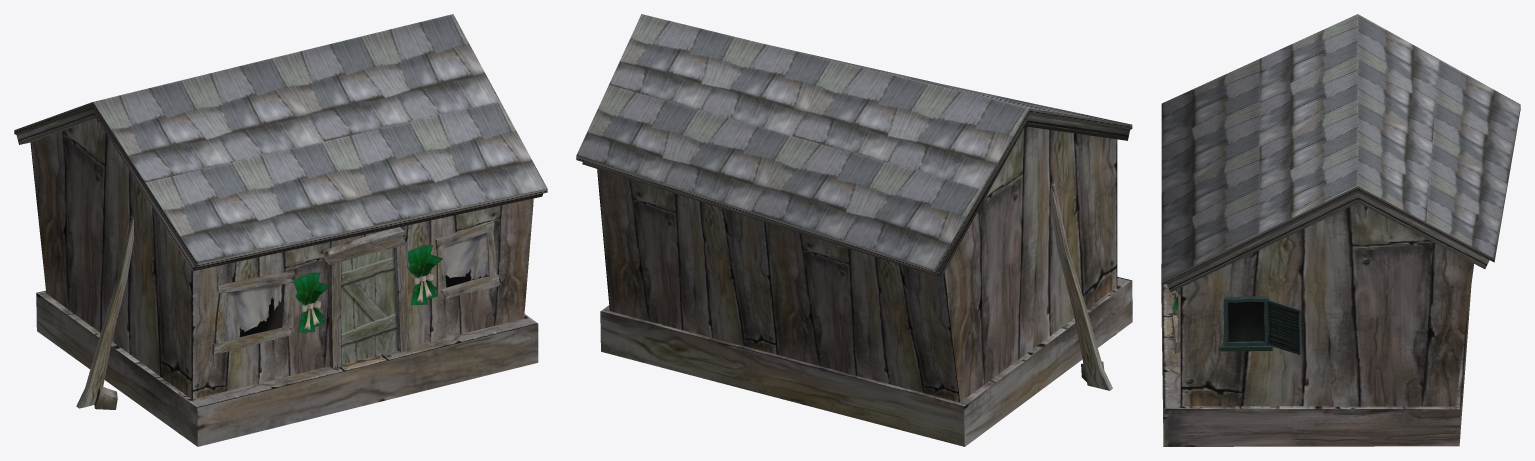
The model's file is shanty_npc_house_combo_G.fbx.
3 renders of one model, left to right at view 1: azimuth 30°, elevation 25°; view 2: azimuth 150°, elevation 25°; view 3: azimuth 270°, elevation 25°, orthographic. The views are drawn at different scales.
Parts seen in each view (by area): view 1: house_geo, platform, door_left, curtain1, wood_support, group1, door_frame_3, door_frame_2, door_frame_1, wood17.001, wood14.001, wood17 (+2 smaller); view 2: house_geo, platform, wood_support; view 3: house_geo, platform, shutter, Glass, woodFrame.
Boxes of the visible parts, x1=… form: house_geo: x1=14, y1=14, x2=547, y2=399; platform: x1=36, y1=290, x2=538, y2=446; door_left: x1=341, y1=248, x2=398, y2=364; curtain1: x1=225, y1=284, x2=283, y2=340; wood_support: x1=76, y1=216, x2=133, y2=408; group1: x1=444, y1=232, x2=488, y2=287; door_frame_3: x1=323, y1=227, x2=405, y2=264; door_frame_2: x1=328, y1=262, x2=341, y2=368; door_frame_1: x1=394, y1=241, x2=409, y2=351; wood17.001: x1=212, y1=326, x2=291, y2=355; wood14.001: x1=216, y1=271, x2=294, y2=293; wood17: x1=440, y1=274, x2=499, y2=298; house_geo: x1=576, y1=14, x2=1132, y2=402; platform: x1=600, y1=277, x2=1132, y2=446; wood_support: x1=1051, y1=183, x2=1112, y2=390; house_geo: x1=1161, y1=14, x2=1520, y2=406; platform: x1=1161, y1=264, x2=1471, y2=446; shutter: x1=1267, y1=299, x2=1301, y2=354; Glass: x1=1228, y1=302, x2=1264, y2=341; woodFrame: x1=1219, y1=296, x2=1272, y2=351.
Size of the model in its own units: 2964 by 1840 by 2242.
Materials: 4 (4 with a texture image).
